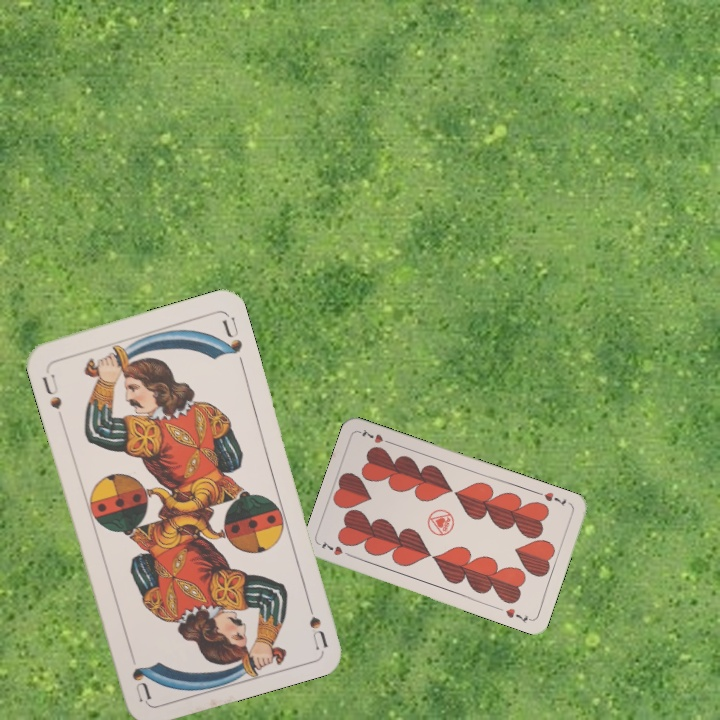H7: (316, 537, 355, 560), (540, 488, 569, 509)
SU: (301, 591, 330, 651), (38, 369, 66, 423)
